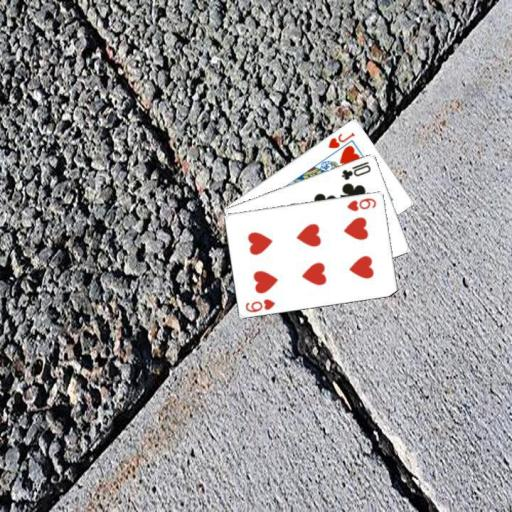10C: (339, 158, 373, 181)
6H: (344, 194, 378, 213), (243, 296, 277, 314)
JH: (325, 129, 356, 150)
